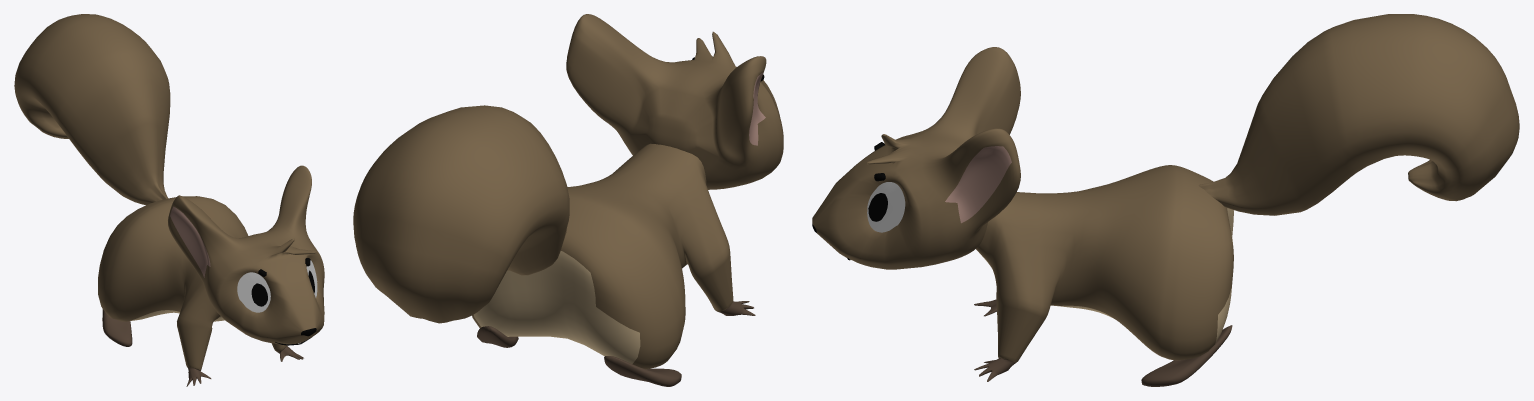
The model's file is SquirrelOption3Untextured.fbx.
The picture shows the model from 3 angles, left to right: view 1: azimuth 30°, elevation 25°; view 2: azimuth 150°, elevation 25°; view 3: azimuth 270°, elevation 25°; orthographic projection. The views are drawn at different scales.
Visible parts, largest first — view 1: polySurface9_pPlane1; view 2: polySurface9_pPlane1; view 3: polySurface9_pPlane1.
Part boxes in pixels (x1,y1,x2,y2): polySurface9_pPlane1: (14, 14, 324, 386); polySurface9_pPlane1: (353, 14, 783, 386); polySurface9_pPlane1: (812, 14, 1519, 386).
Bounding box in the file's own units: 9.81 × 15.67 × 30.84.
